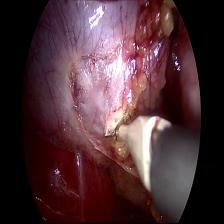Hook: (102, 113, 169, 186)
